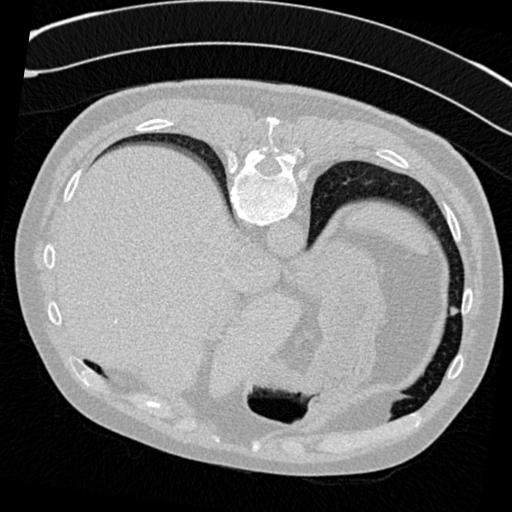nodule: (444, 305, 459, 320)
